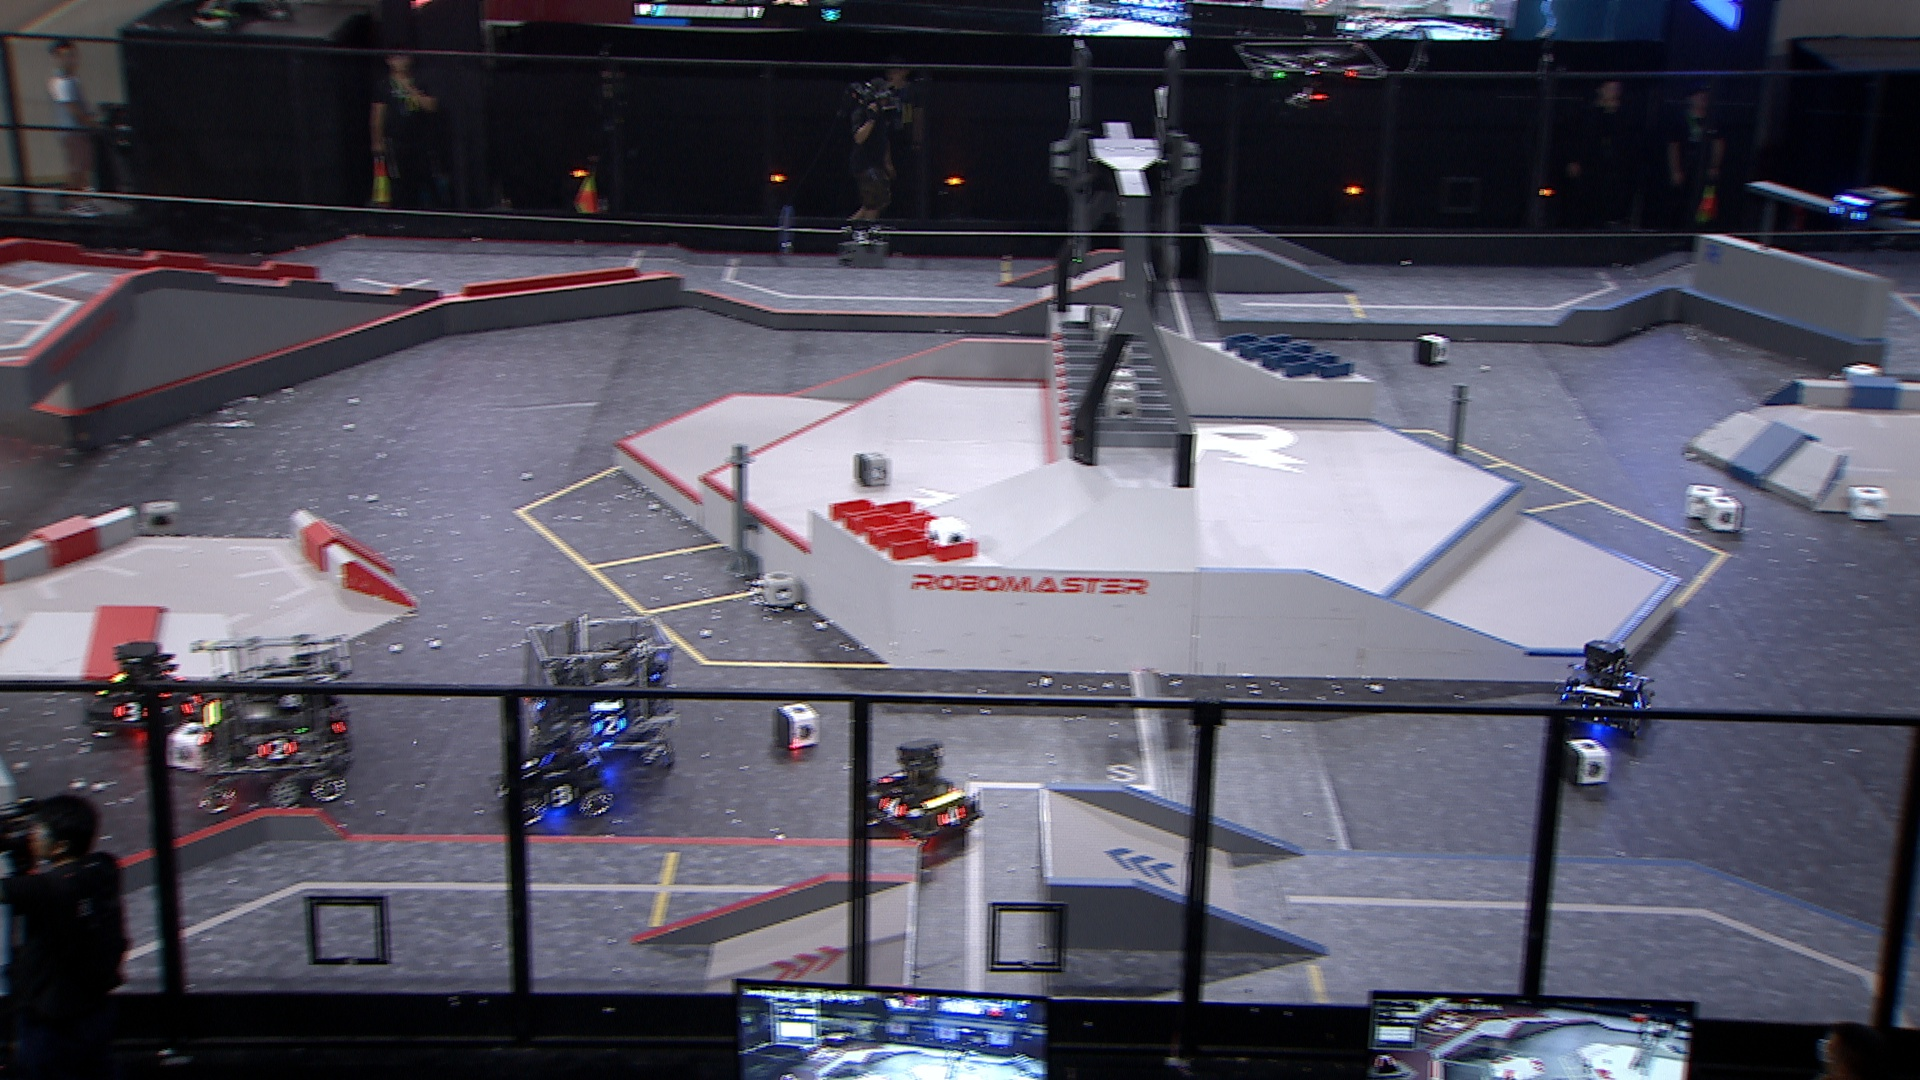armor: (257, 738, 299, 764), (542, 783, 583, 808), (589, 713, 629, 737), (112, 700, 149, 723), (877, 796, 907, 822), (938, 806, 969, 828), (1830, 204, 1869, 223), (520, 754, 543, 782), (880, 765, 907, 787), (181, 694, 204, 713), (1633, 694, 1650, 709)
car: (186, 636, 359, 808), (518, 615, 683, 774), (858, 736, 988, 847), (495, 713, 615, 823), (82, 636, 207, 740), (1560, 641, 1655, 735)
watcher: (1830, 185, 1905, 239)
